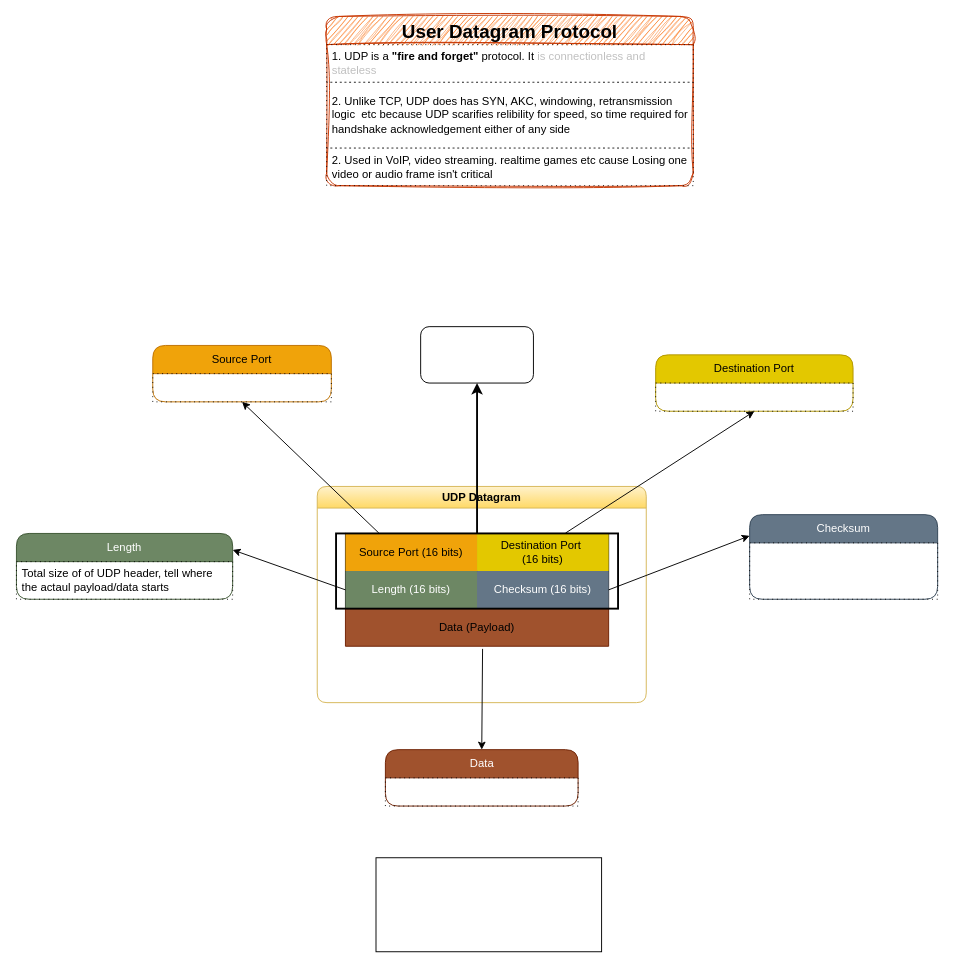
The diagram is 954 pixels wide and 971 high, and some of its shapes have lost their labels. Each missing label, with the centre of its shape:
"Actual application data" belongs at [481,791].
"Error detection for UDP header, UDP payload, IP pseudo-header" belongs at [843,570].
"Max payload (theoretical): 65,507 bytes Practical size depends on MTU" belongs at [488,904].
"Port of the receiving application" belongs at [754,396].
"Port of the sending application" belongs at [241,387].
"UDP header are fixed 8 bytes" belongs at [476,354].
